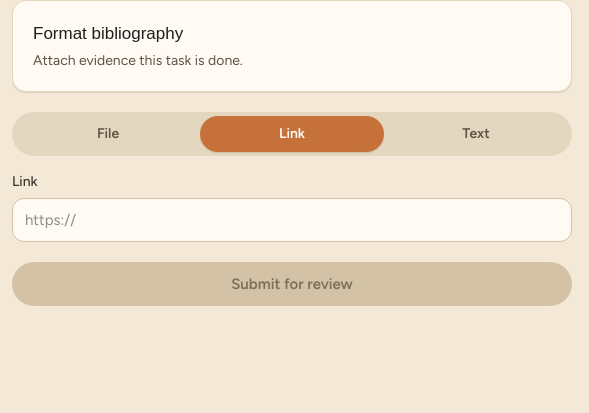
submit proof page › clears the typed value when switching proof type, so a link can't be sent as a note
In the field labelled "Link": x=292, y=220 x1=12 y1=198 x2=572 y2=242, type "docs.google.com/bib"
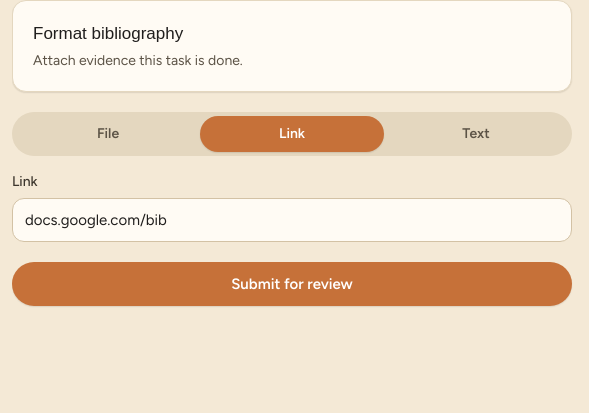
Click the button "Text": x=476, y=134 x1=384 y1=116 x2=568 y2=152
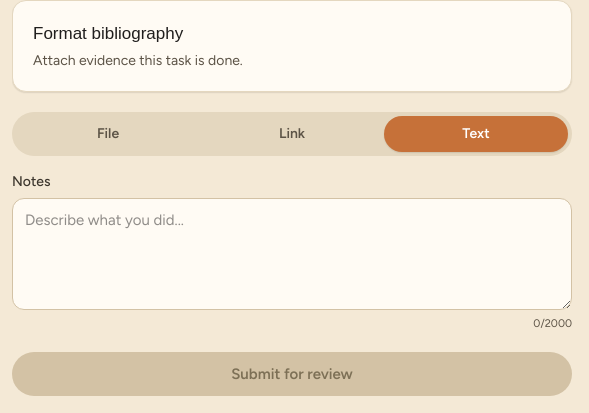
Result: the text box labelled "Notes" is empty at x1=12 y1=198 x2=572 y2=310
Result: the button "Submit for review" is disabled at x1=12 y1=352 x2=572 y2=396
